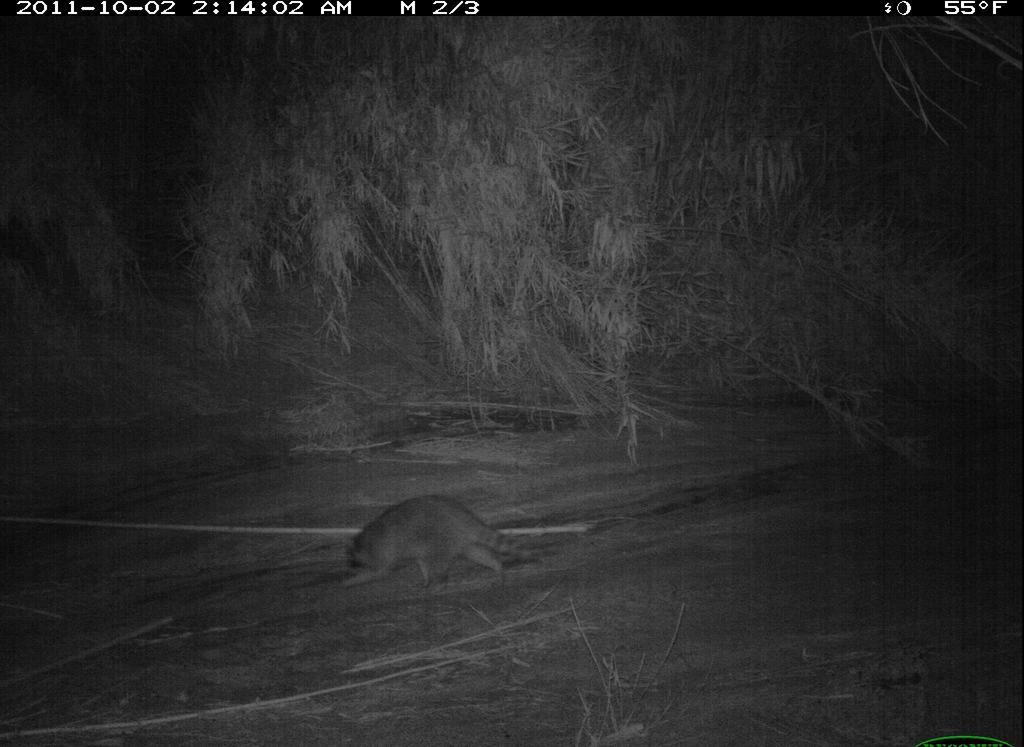raccoon: (335, 486, 547, 588)
